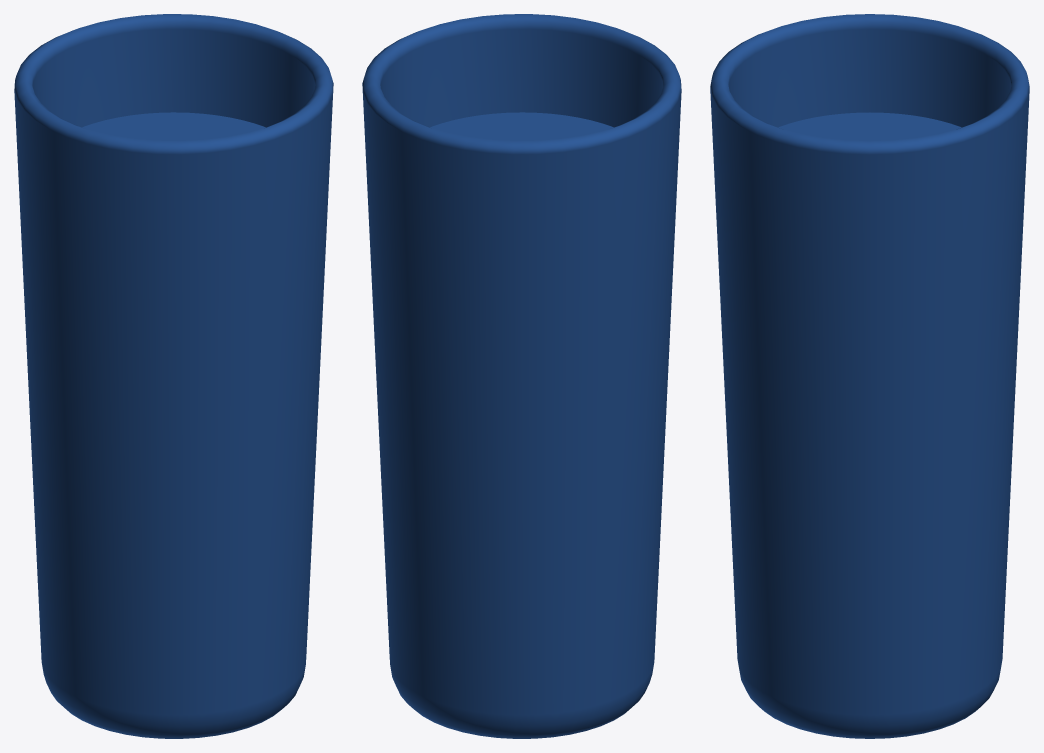
File: SM_Glass_Cup_A.fbx
3 views of the same model, side by side, from view 1: azimuth 30°, elevation 25°; view 2: azimuth 150°, elevation 25°; view 3: azimuth 270°, elevation 25° (orthographic).
Visible parts, largest first — view 1: SM_Glass_Cup_A_LOD0; view 2: SM_Glass_Cup_A_LOD0; view 3: SM_Glass_Cup_A_LOD0.
Boxes of the visible parts, left/top/right/bottom form: SM_Glass_Cup_A_LOD0: left=14, top=14, right=333, bottom=738; SM_Glass_Cup_A_LOD0: left=362, top=14, right=681, bottom=738; SM_Glass_Cup_A_LOD0: left=710, top=14, right=1029, bottom=738.
Size of the model in its own units: 8.89 by 8.89 by 18.83.
